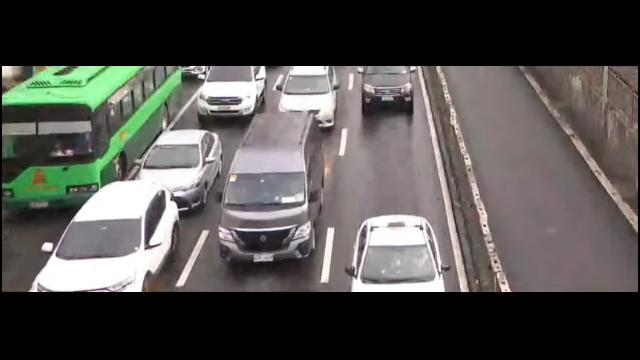bus: (0, 66, 185, 212)
car: (24, 178, 185, 291), (130, 128, 229, 207), (350, 215, 448, 293), (192, 65, 267, 123), (280, 63, 346, 125), (358, 63, 423, 112)
van: (214, 111, 333, 261)
